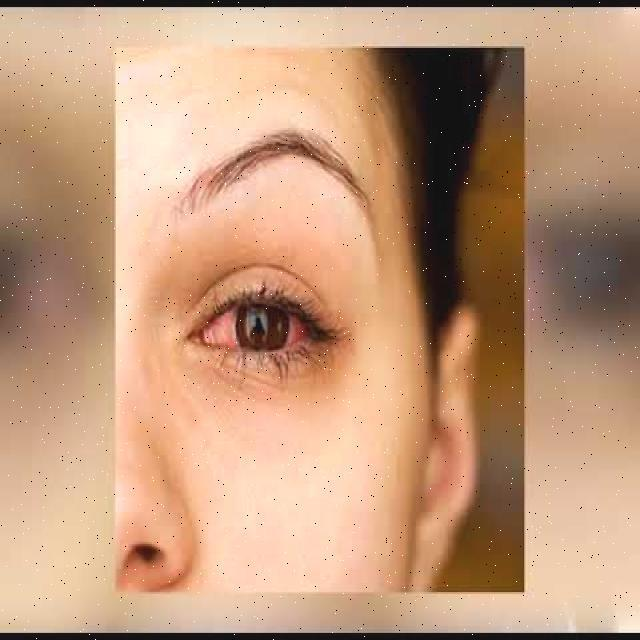Conjunctivitis: (188, 304, 310, 351)
